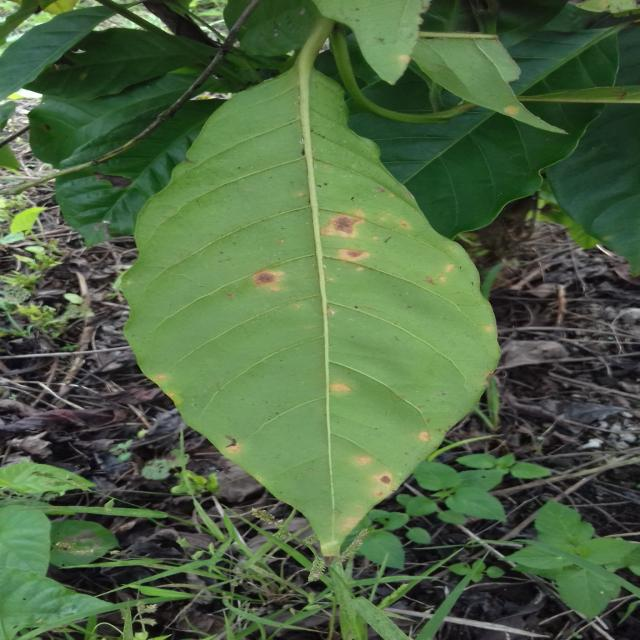Enfermedad-Roya: (134, 41, 501, 555)
